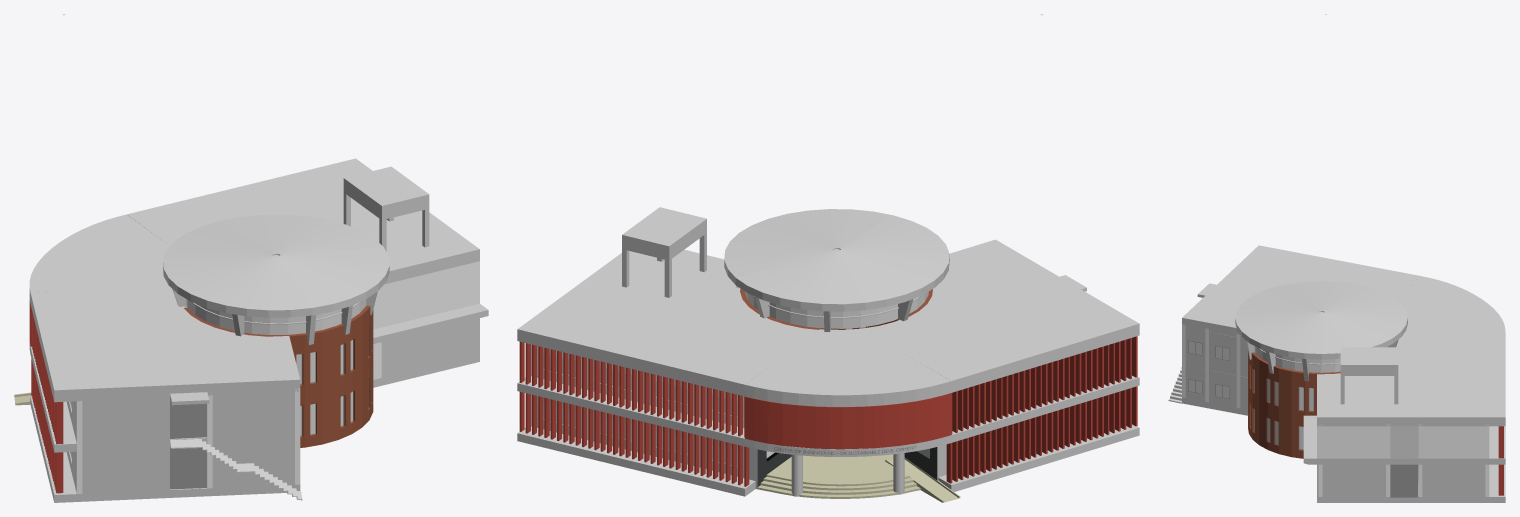
Rendered from Center_engineering.glb.
3 renders of one model, left to right at view 1: azimuth 30°, elevation 25°; view 2: azimuth 150°, elevation 25°; view 3: azimuth 270°, elevation 25°, orthographic. The views are drawn at different scales.
Visible parts, largest first — view 1: floor2.001, Cube.011, Cube.003, Cube.001, Cylinder.001, Cube.002, floor2.004, pilla.008, floor, Cube, Cylinder, Cube.005 (+6 smaller); view 2: floor2.001, Cube.011, Cube.004, Cube.005, Cube.029, floor2.004, Stair, floor, pilla.008, Cube, Cube.002, Cube.001; view 3: floor2.001, Cube.011, Cube.002, Cube, Cylinder.001, floor2.004, Cylinder, pilla.008, floor, Cube.001, Cube.003, door.002 (+3 smaller).
Boxes of the visible parts, left/top/right/bottom form: floor2.001: left=29, top=158, right=479, bottom=405; Cube.011: left=163, top=214, right=389, bottom=344; Cube.003: left=67, top=392, right=294, bottom=443; Cube.001: left=66, top=442, right=294, bottom=493; Cylinder.001: left=184, top=305, right=373, bottom=396; Cube.002: left=381, top=261, right=479, bottom=327; floor2.004: left=29, top=303, right=488, bottom=452; pilla.008: left=343, top=166, right=429, bottom=251; floor: left=30, top=354, right=479, bottom=502; Cube: left=381, top=318, right=479, bottom=377; Cylinder: left=300, top=361, right=373, bottom=447; Cube.005: left=31, top=308, right=63, bottom=493; floor2.001: left=517, top=239, right=1139, bottom=406; Cube.011: left=724, top=209, right=949, bottom=331; Cube.004: left=519, top=341, right=749, bottom=486; Cube.005: left=946, top=336, right=1137, bottom=483; Cube.029: left=745, top=393, right=951, bottom=449; floor2.004: left=517, top=375, right=1139, bottom=456; Stair: left=757, top=454, right=960, bottom=502; floor: left=517, top=424, right=1139, bottom=496; pilla.008: left=622, top=207, right=706, bottom=297; Cube: left=537, top=396, right=791, bottom=489; Cube.002: left=537, top=346, right=744, bottom=427; Cube.001: left=904, top=444, right=946, bottom=480; floor2.001: left=1182, top=245, right=1505, bottom=426; Cube.011: left=1235, top=281, right=1407, bottom=381; Cube.002: left=1317, top=426, right=1485, bottom=458; Cube: left=1317, top=464, right=1485, bottom=496; Cylinder.001: left=1248, top=350, right=1340, bottom=419; floor2.004: left=1185, top=360, right=1505, bottom=464; Cylinder: left=1248, top=390, right=1303, bottom=458; pilla.008: left=1340, top=347, right=1398, bottom=404; floor: left=1182, top=397, right=1505, bottom=502; Cube.001: left=1185, top=366, right=1247, bottom=409; Cube.003: left=1185, top=327, right=1247, bottom=371; door.002: left=1390, top=464, right=1418, bottom=497.
Bounding box in the file's own units: 400 × 367 × 331.
